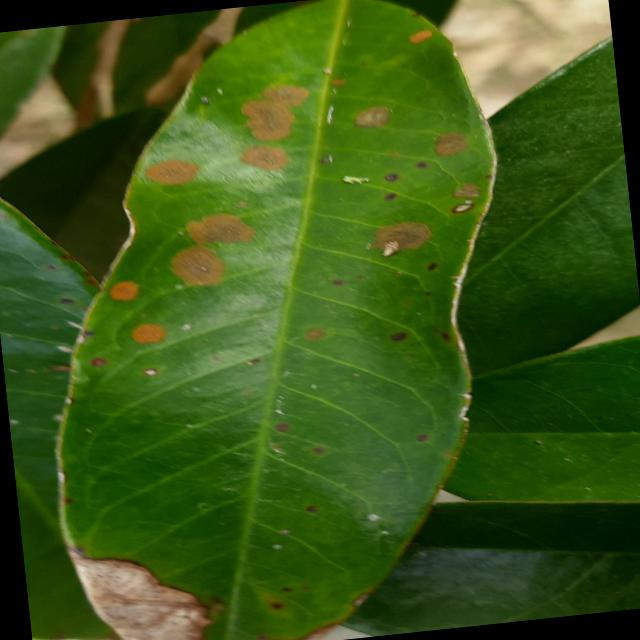Algal Leaf Spot: (0, 0, 548, 639)
